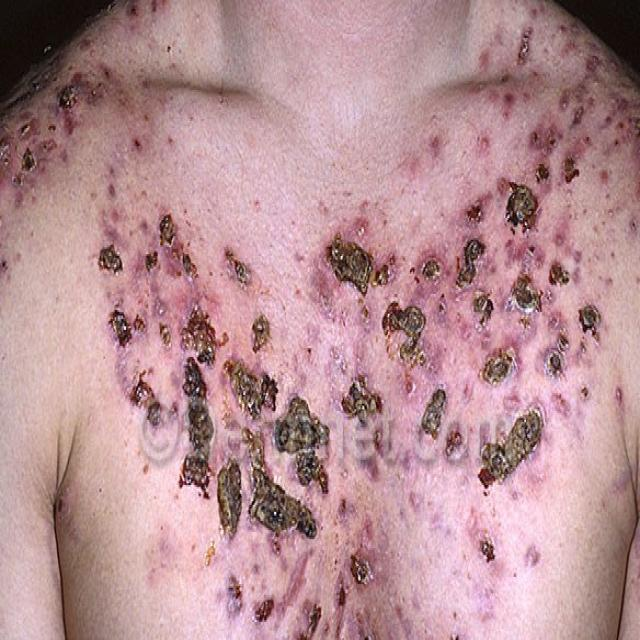Acne: (87, 196, 419, 640), (454, 173, 624, 478), (510, 12, 639, 167), (0, 143, 57, 253)
